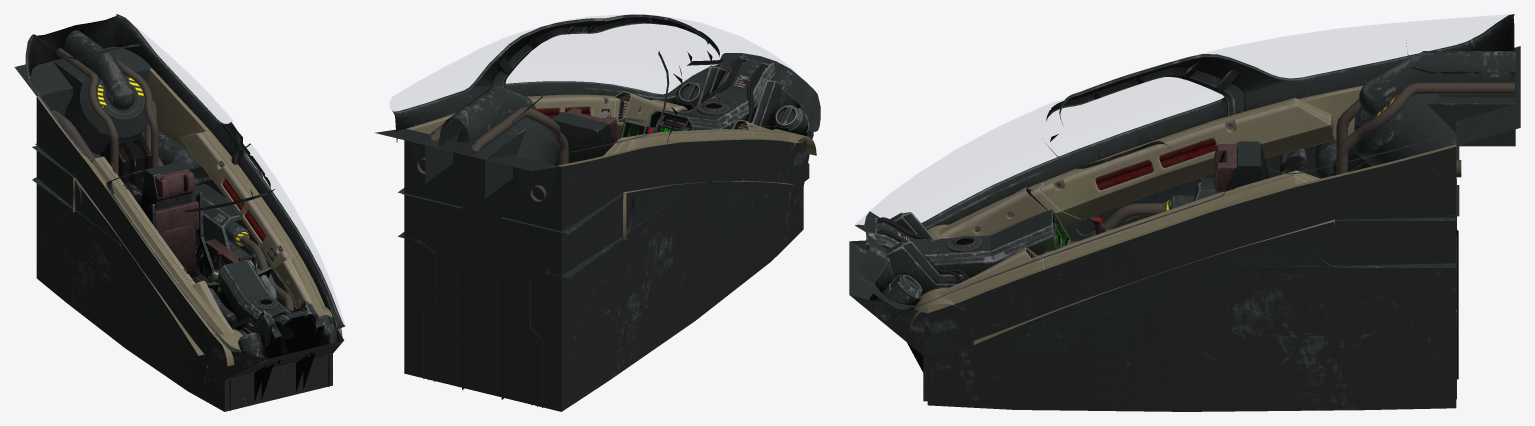
File: cokpit.glb
3 views of the same model, side by side, from view 1: azimuth 30°, elevation 25°; view 2: azimuth 150°, elevation 25°; view 3: azimuth 270°, elevation 25° (orthographic). The views are drawn at different scales.
Parts seen in each view (by area): view 1: cockpit, center; view 2: cockpit, center; view 3: cockpit, center.
Part boxes in pixels (x1,y1,x2,y2): cockpit: (14,30,344,411); center: (25,14,345,401); cockpit: (375,86,816,411); center: (392,14,820,165); cockpit: (849,46,1520,411); center: (854,14,1514,372).
Bounding box in the file's own units: 1.05 × 1.66 × 3.05.
Materials: 5 (4 with a texture image).
